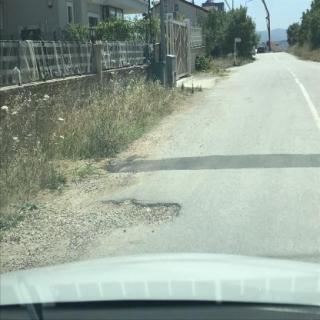pothole: (80, 200, 182, 245)
